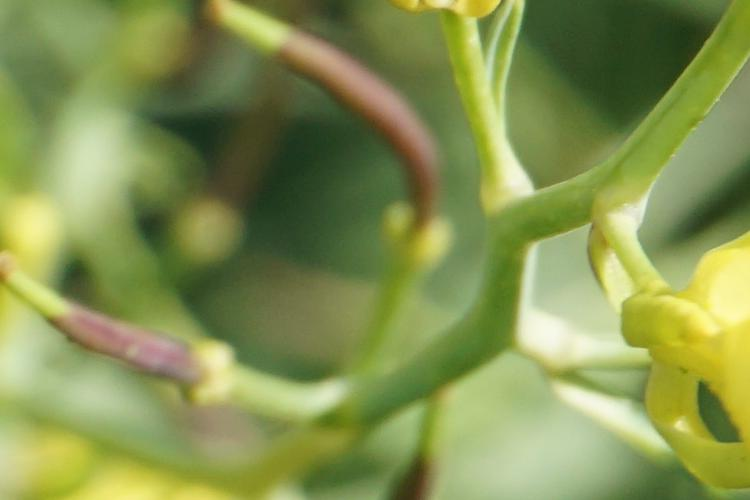pod: (209, 2, 441, 224), (2, 259, 237, 402)
yellow: (621, 230, 748, 475)
